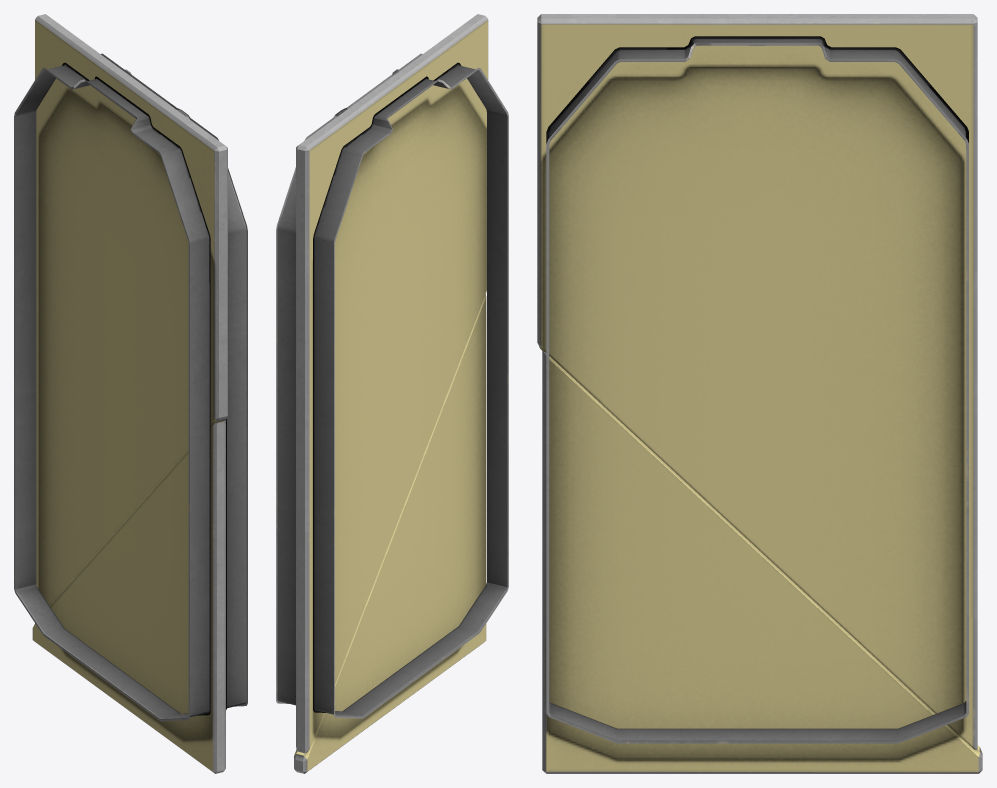
File: door2.fbx
3 views of the same model, side by side, from view 1: azimuth 30°, elevation 25°; view 2: azimuth 150°, elevation 25°; view 3: azimuth 270°, elevation 25° (orthographic). The views are drawn at different scales.
Visible parts, largest first — view 1: door_2; view 2: door_2; view 3: door_2.
Part boxes in pixels (x1,y1,x2,y2): door_2: (14,14,247,773); door_2: (276,14,508,773); door_2: (537,14,982,773).
Size of the model in its own units: 26.66 by 276 by 147.
